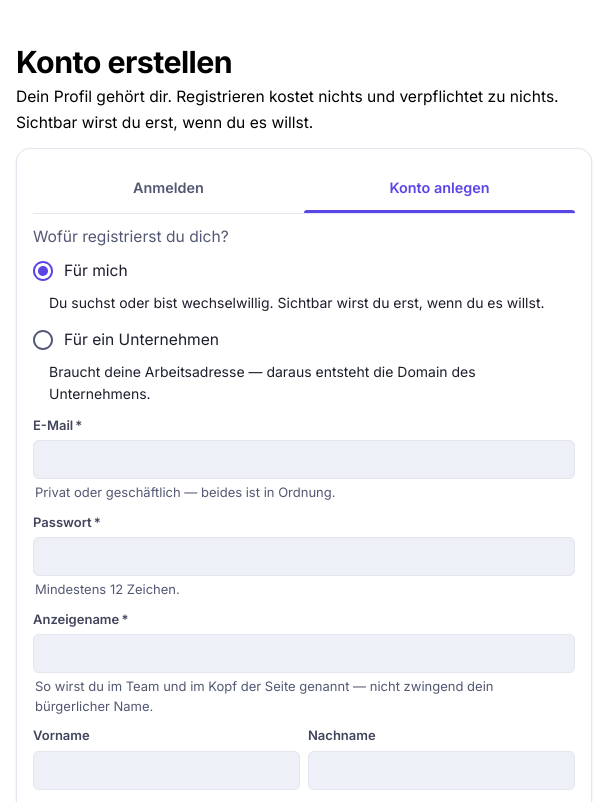
Scenario: RegisterPage › registriert mit einer privaten Adresse und zeigt den Bestätigungshinweis
This screenshot has width=609, height=802.
In the field labelled "E-Mail *": coordinates (304, 459) [33,440,575,479], type "max@gmail.com"
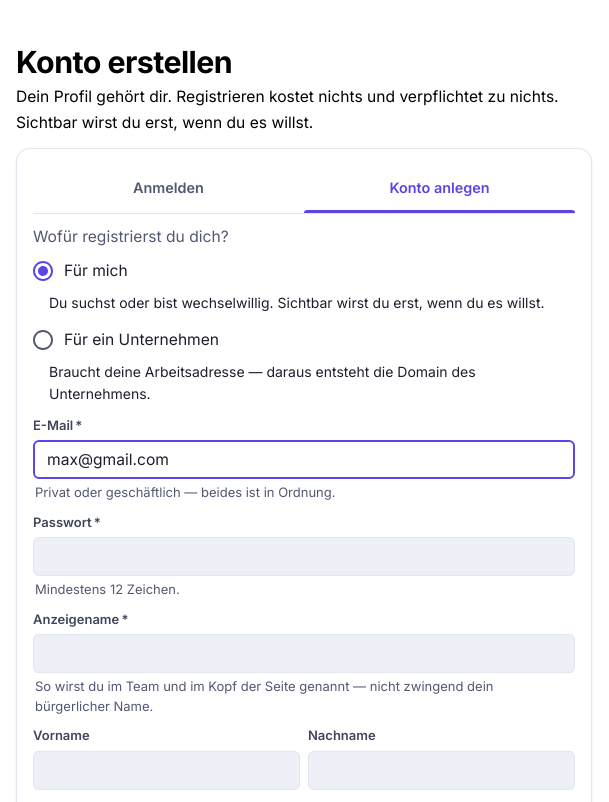
In the password field labelled "Passwort *": coordinates (304, 556) [33,537,575,576], type "strongpassword1"
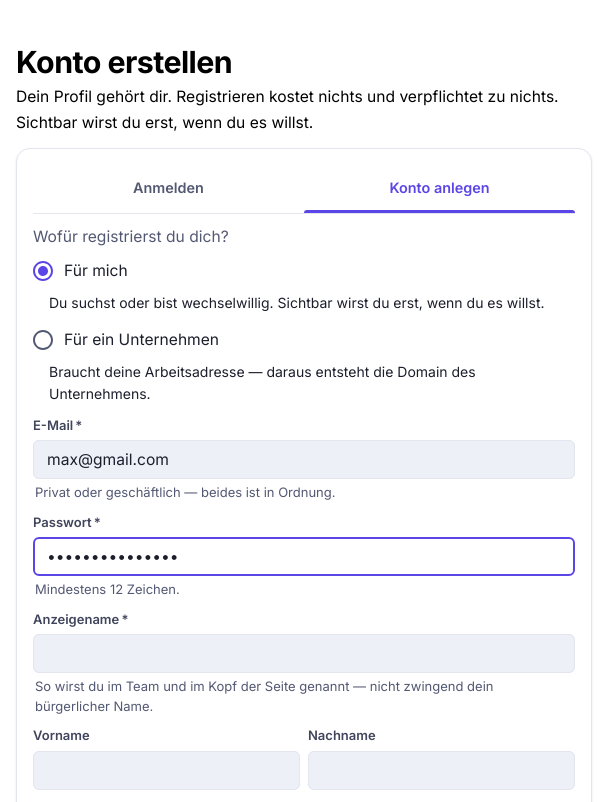
In the field labelled "Anzeigename *": coordinates (304, 654) [33,634,575,673], type "Max"
(page scrolled)
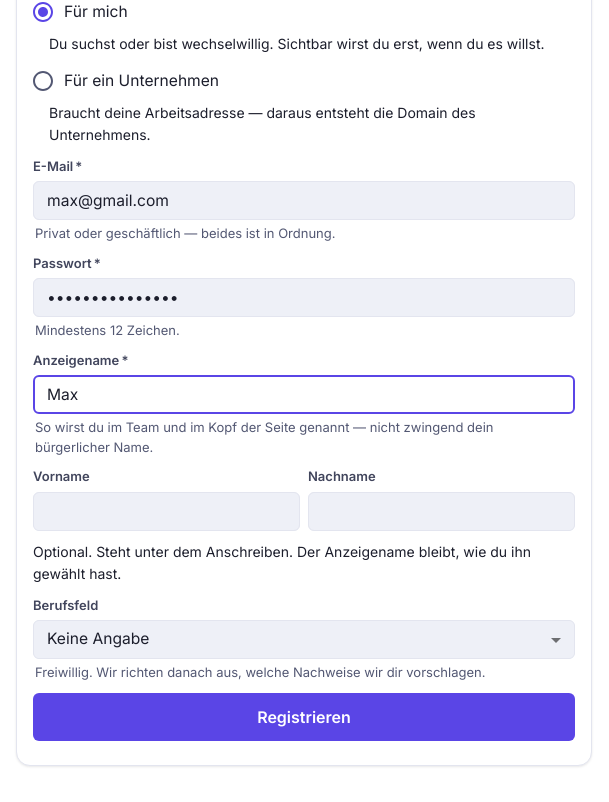
Click the button "Registrieren": coordinates (304, 717) [33,693,575,741]
(page scrolled)
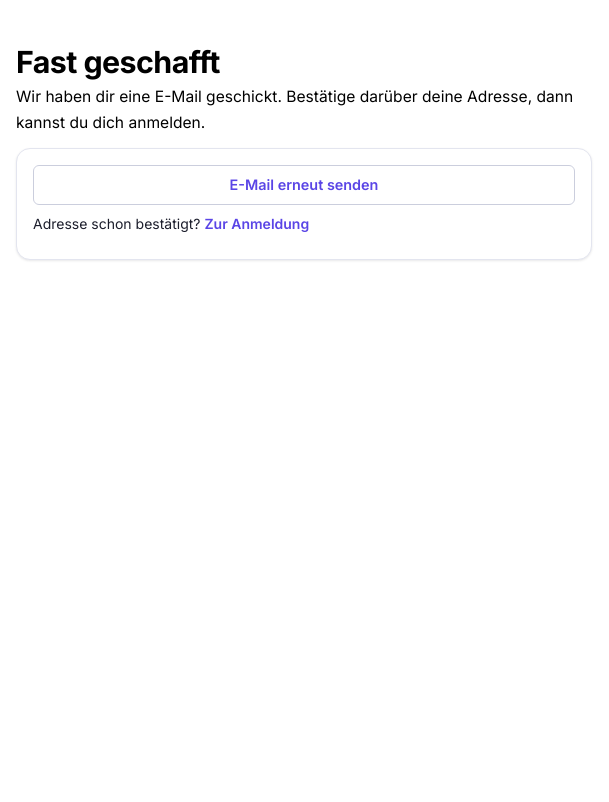
Expected: the text "E-Mail geschickt" is shown, [16,88,573,132]
